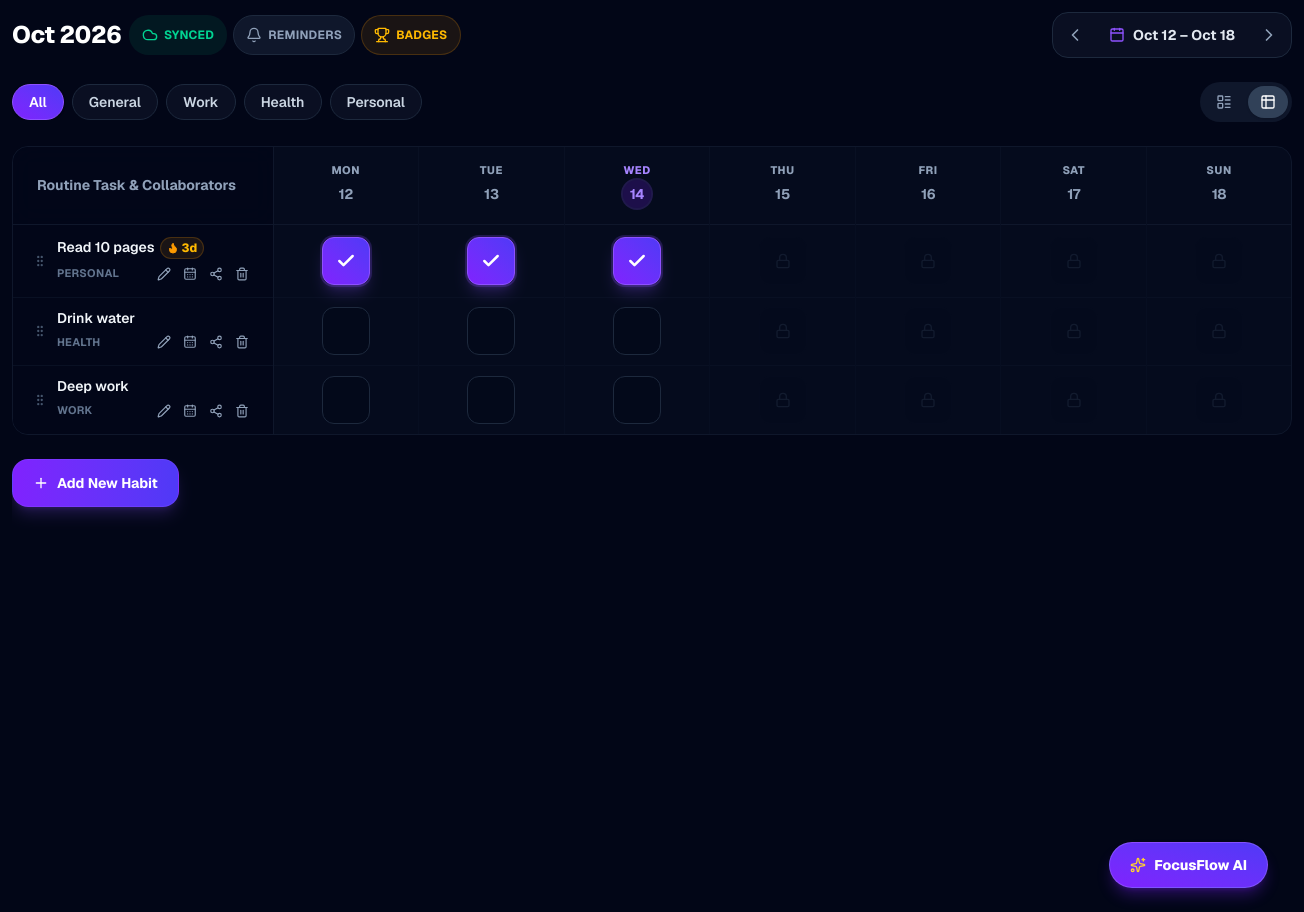
Test: Weekly Tracker › filters habits by category
This screenshot has width=1304, height=912.
Click the button "Work" at [201, 102], box [166,84,236,120]
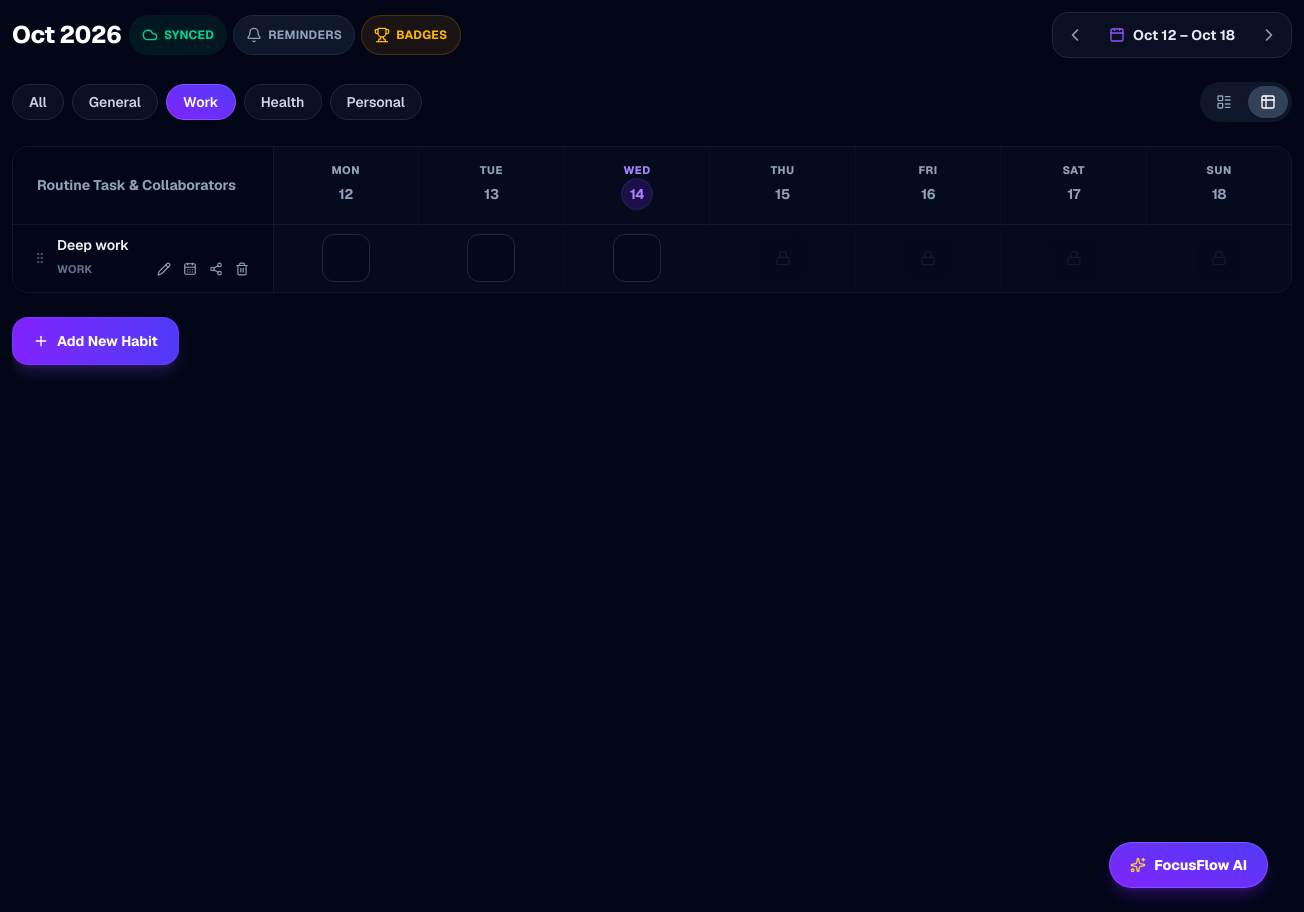
Result: the text "Read 10 pages" is not shown
